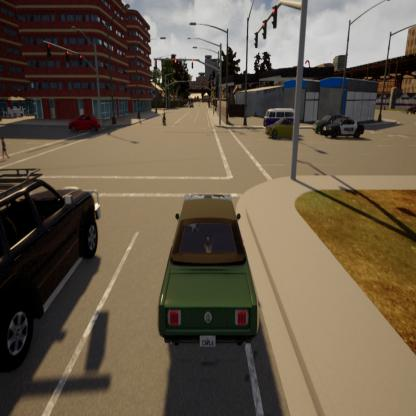Cars: (0, 173, 100, 369), (158, 196, 258, 349), (324, 117, 363, 141), (68, 113, 101, 135), (314, 113, 347, 135), (265, 119, 299, 139), (264, 109, 295, 128), (162, 108, 166, 127)
Pedestrian: (0, 134, 10, 160)
